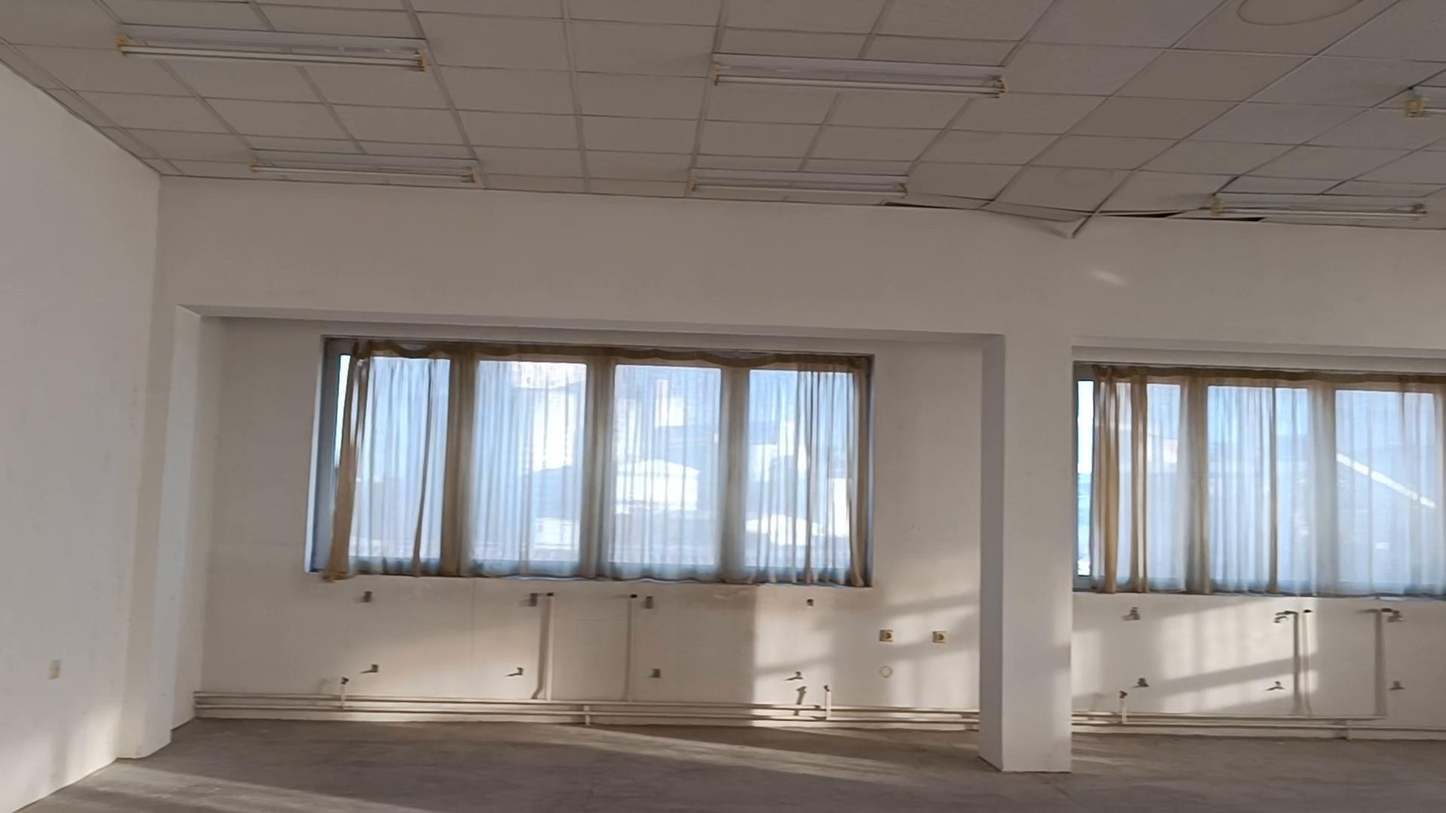ceiling: (0, 0, 1445, 228)
floor: (22, 720, 1445, 812)
wall: (0, 83, 1445, 812)
